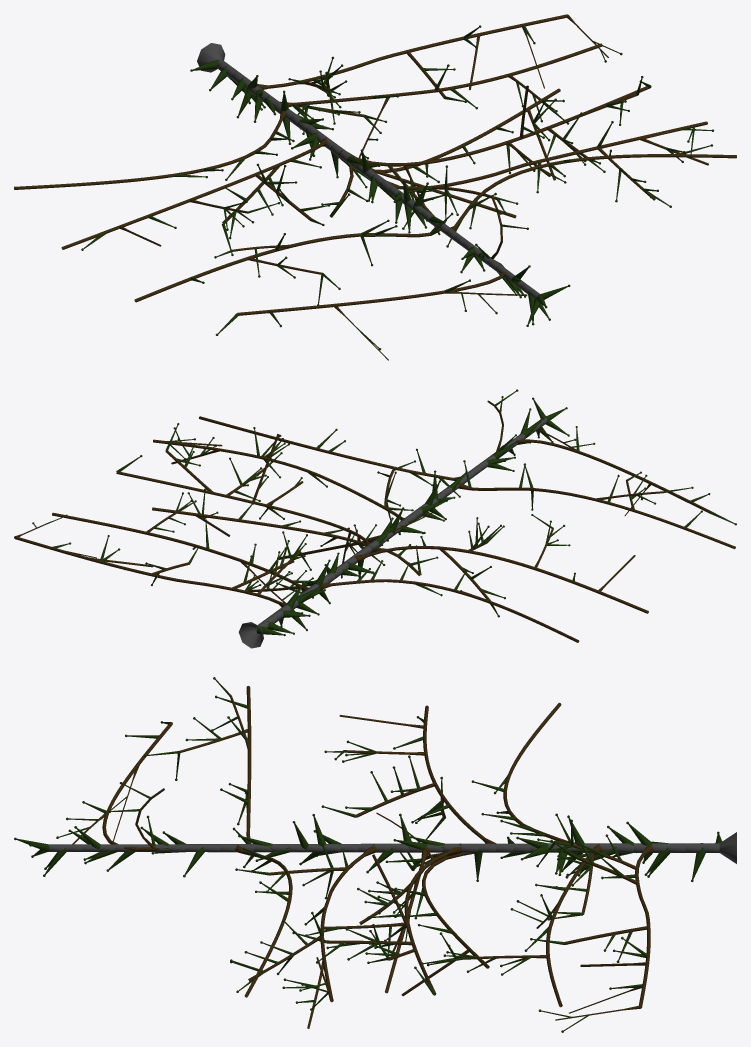
The model's file is tree_0.obj.
The picture shows the model from 3 angles, top to bottom: view 1: azimuth 30°, elevation 25°; view 2: azimuth 150°, elevation 25°; view 3: azimuth 270°, elevation 25°; orthographic projection. The views are drawn at different scales.
Size of the model in its own units: 4.48 by 0.9149 by 4.2.
